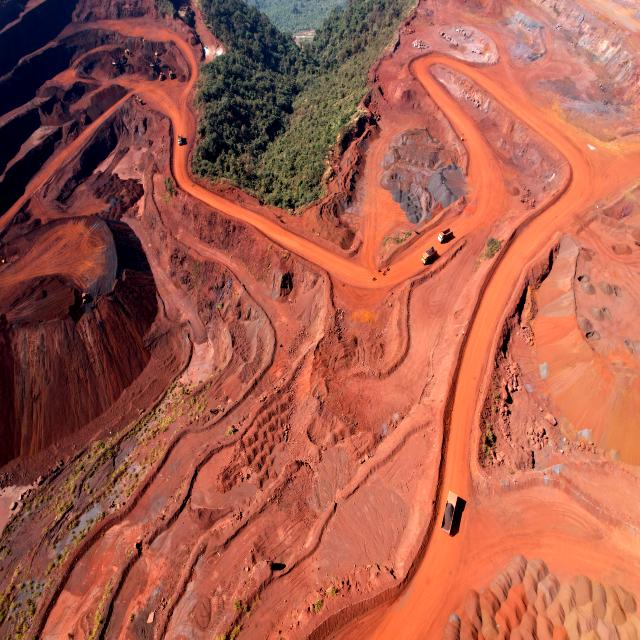Dumper truck: (441, 490, 459, 534), (422, 246, 436, 264), (438, 229, 453, 243), (178, 133, 183, 144), (169, 69, 173, 80)
Excavator: (155, 46, 166, 56), (125, 48, 132, 58)
